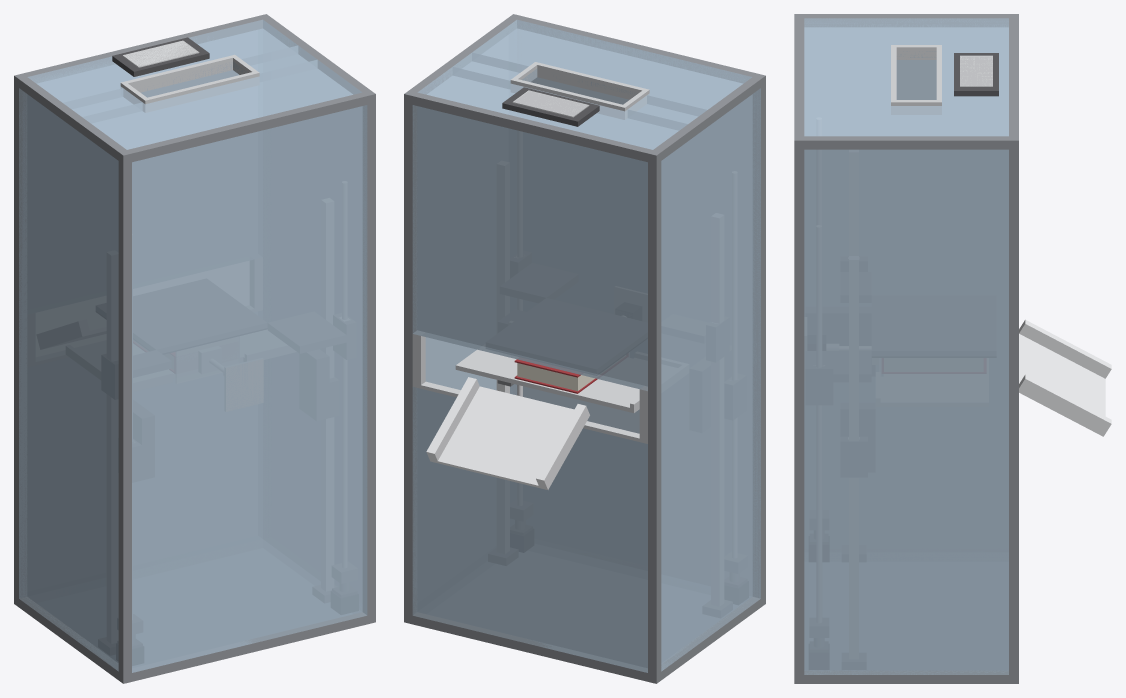
Rendered from elevator_clamp_v01.glb.
The picture shows the model from 3 angles, left to right: view 1: azimuth 30°, elevation 25°; view 2: azimuth 150°, elevation 25°; view 3: azimuth 270°, elevation 25°; orthographic projection. The views are drawn at different scales.
Visible parts, largest first — view 1: Shell_Back, Shell_Side_Left, Top_Plate_Rear, Frame_Post_LB, Top_Plate_Front, Frame_Post_RB, Frame_Post_LF, Frame_Rail_Top_Back, Frame_Rail_Bottom_Back, Frame_Rail_Top_Front, Frame_Rail_Top_Left, Push_Motor_Mount (+9 smaller); view 2: Front_Level_Top, Shell_Side_Left, Front_Level_Bottom, Top_Plate_Rear, Chute_Ramp, Frame_Post_LF, Frame_Post_RF, Frame_Post_LB, Top_Plate_Front, Frame_Rail_Top_Front, Platform_Plate_Main, Frame_Rail_Bottom_Front (+17 smaller); view 3: Shell_Side_Right, Top_Plate_Rear, Top_Plate_Front, Frame_Post_RB, Frame_Post_RF, Chute_Ramp, Frame_Rail_Top_Right, Frame_Rail_Bottom_Right, Frame_Rail_Top_Left, Control_Panel, Shell_Side_Left, Chute_Wall_Right (+8 smaller).
Part boxes in pixels (x1,y1,x2,y2): Shell_Back: (132,105,367,672); Shell_Side_Left: (19,88,118,671); Top_Plate_Rear: (82,59,362,149); Frame_Post_LB: (118,150,131,683); Top_Plate_Front: (27,19,297,108); Frame_Post_RB: (363,90,375,622); Frame_Post_LF: (14,73,26,606); Frame_Rail_Top_Back: (118,91,375,163); Frame_Rail_Bottom_Back: (118,612,373,683); Frame_Rail_Top_Front: (14,14,269,85); Frame_Rail_Top_Left: (14,74,131,163); Push_Motor_Mount: (226,359,263,411); Front_Level_Top: (412,105,647,391); Shell_Side_Left: (661,88,760,671); Front_Level_Bottom: (412,387,647,672); Top_Plate_Rear: (472,19,752,109); Chute_Ramp: (429,386,589,489); Frame_Post_LF: (648,150,661,683); Frame_Post_RF: (404,90,416,623); Frame_Post_LB: (753,73,765,606); Top_Plate_Front: (417,66,687,149); Frame_Rail_Top_Front: (404,91,661,163); Platform_Plate_Main: (455,349,639,412); Frame_Rail_Bottom_Front: (404,612,656,682); Shell_Side_Right: (804,149,1008,674); Top_Plate_Rear: (804,18,896,136); Top_Plate_Front: (936,18,1008,136); Frame_Post_RB: (794,137,804,683); Frame_Post_RF: (1009,138,1018,683); Chute_Ramp: (1019,334,1105,436); Frame_Rail_Top_Right: (794,136,1018,149); Frame_Rail_Bottom_Right: (794,671,1018,683); Frame_Rail_Top_Left: (796,14,1015,26); Control_Panel: (954,53,998,96); Shell_Side_Left: (896,60,936,99); Chute_Wall_Right: (1019,374,1111,433).
Bounding box in the file's own units: 600 × 1214 × 636.
